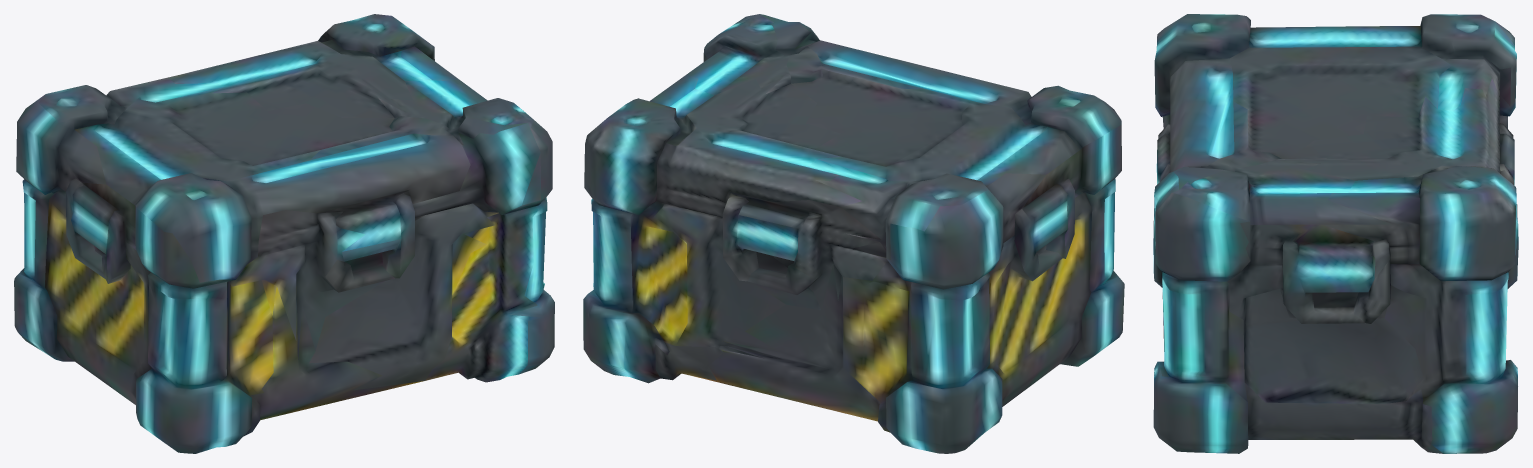
Rendered from env-crate-neon.glb.
The picture shows the model from 3 angles, left to right: view 1: azimuth 30°, elevation 25°; view 2: azimuth 150°, elevation 25°; view 3: azimuth 270°, elevation 25°; orthographic projection. The views are drawn at different scales.
Visible parts, largest first — view 1: env-crate-neon; view 2: env-crate-neon; view 3: env-crate-neon.
Part boxes in pixels (x1=…): env-crate-neon: x1=14, y1=14, x2=554, y2=453; env-crate-neon: x1=583, y1=14, x2=1124, y2=453; env-crate-neon: x1=1153, y1=14, x2=1518, y2=453.
Size of the model in its own units: 1.4 by 0.8447 by 1.07.
1 material, 1 textured.
